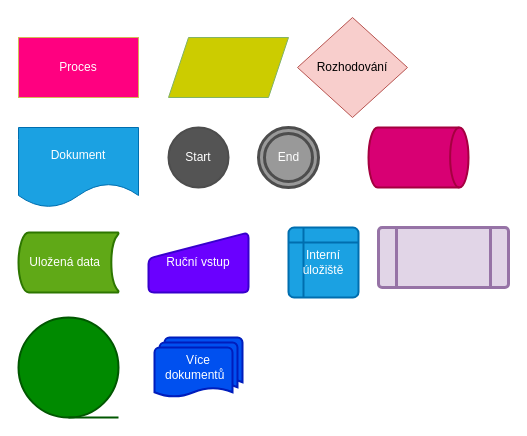
Image size: 527x436. Some labels were removed from this diagram. Here are the shapes that lost their labels. From the top down, the centre of each, then its label:
At [228,67]: "Data".
At [418,157]: "Direct data".
At [443,257]: "Předdefinovaný proces".
At [68,367]: "Úložiště se sekvenčním vstupem".
